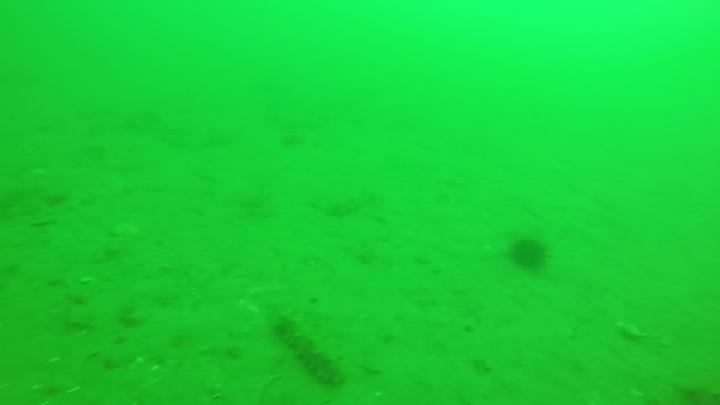echinus: (509, 237, 550, 273)
holothurian: (276, 316, 346, 388)
scallop: (615, 321, 647, 344)
